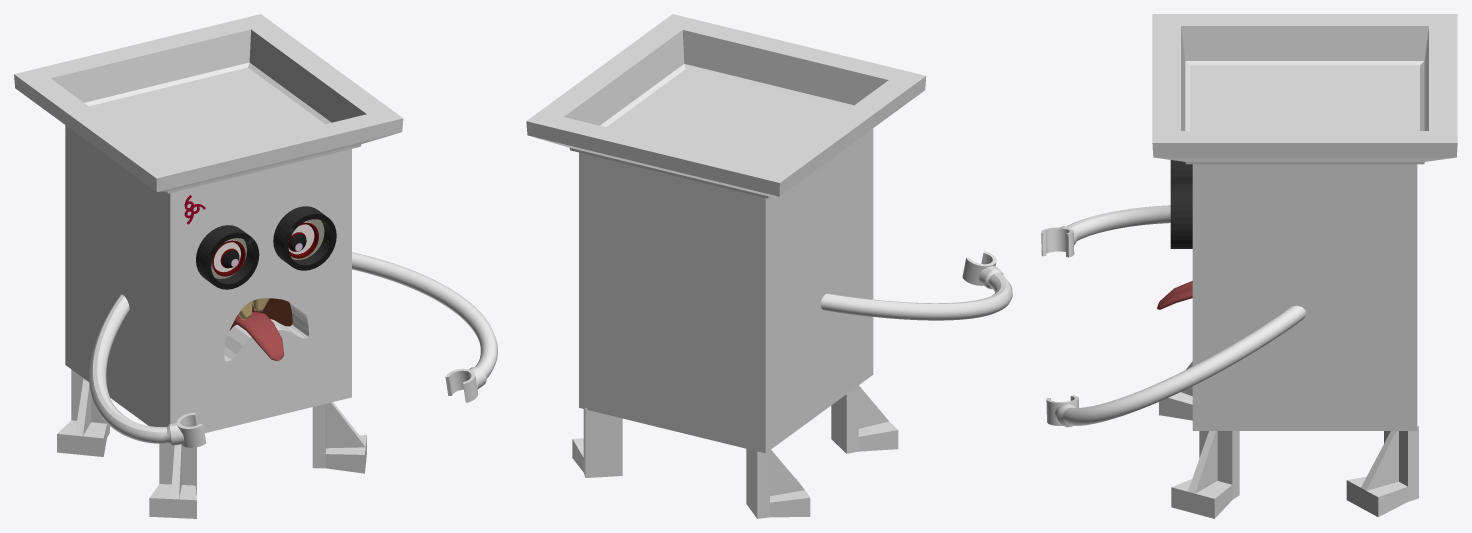
The model's file is monster_sampah.fbx.
3 views of the same model, side by side, from view 1: azimuth 30°, elevation 25°; view 2: azimuth 150°, elevation 25°; view 3: azimuth 270°, elevation 25° (orthographic). The views are drawn at different scales.
Visible parts, largest first — view 1: Cube.141, Cylinder.043, NurbsPath.001, NurbsPath, Cube.136, Cube.134, Cube.135, Cylinder.042, Cylinder.040, Cylinder.041, Cube.138; view 2: Cube.141, NurbsPath, Cube.135, Cube.134, Cube.137, Cylinder.041; view 3: Cube.141, NurbsPath.001, Cube.137, Cube.136, Cylinder.043, NurbsPath, Cylinder.041, Cube.134, Cylinder.042.
Part boxes in pixels (x1,y1,x2,y2): Cube.141: (14, 14, 403, 433); Cylinder.043: (196, 206, 336, 289); NurbsPath.001: (352, 252, 497, 389); NurbsPath: (89, 294, 184, 445); Cube.136: (312, 402, 366, 473); Cube.134: (149, 443, 196, 518); Cube.135: (57, 369, 109, 456); Cylinder.042: (234, 311, 284, 361); Cylinder.040: (445, 368, 477, 402); Cylinder.041: (176, 413, 206, 447); Cube.138: (229, 298, 292, 330); Cube.141: (526, 14, 926, 453); NurbsPath: (820, 266, 1012, 320); Cube.135: (746, 448, 810, 518); Cube.134: (831, 385, 898, 453); Cube.137: (572, 408, 622, 477); Cylinder.041: (962, 251, 996, 285); Cube.141: (1152, 14, 1457, 430); NurbsPath.001: (1054, 305, 1306, 427); Cube.137: (1346, 425, 1418, 517); Cube.136: (1171, 431, 1239, 518); Cylinder.043: (1170, 160, 1192, 248); NurbsPath: (1060, 205, 1170, 244); Cylinder.041: (1041, 227, 1074, 257); Cube.134: (1159, 361, 1192, 420); Cylinder.042: (1157, 281, 1192, 309).
Bounding box in the file's own units: 1413 × 1258 × 1250.
